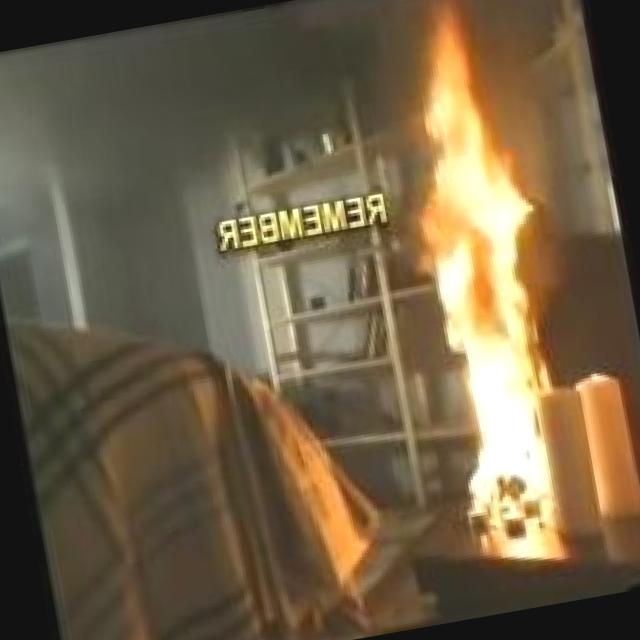fire: (357, 0, 602, 500)
